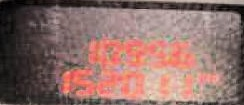0: (95, 39, 119, 64), (119, 70, 142, 96)
1: (86, 40, 96, 62), (182, 72, 191, 96), (157, 74, 167, 95), (60, 70, 69, 92)
2: (94, 70, 117, 95)
5: (71, 69, 92, 94), (146, 40, 166, 66)
6: (169, 40, 192, 66)
9: (122, 40, 142, 65)
X: (204, 72, 217, 81), (194, 71, 204, 81)
